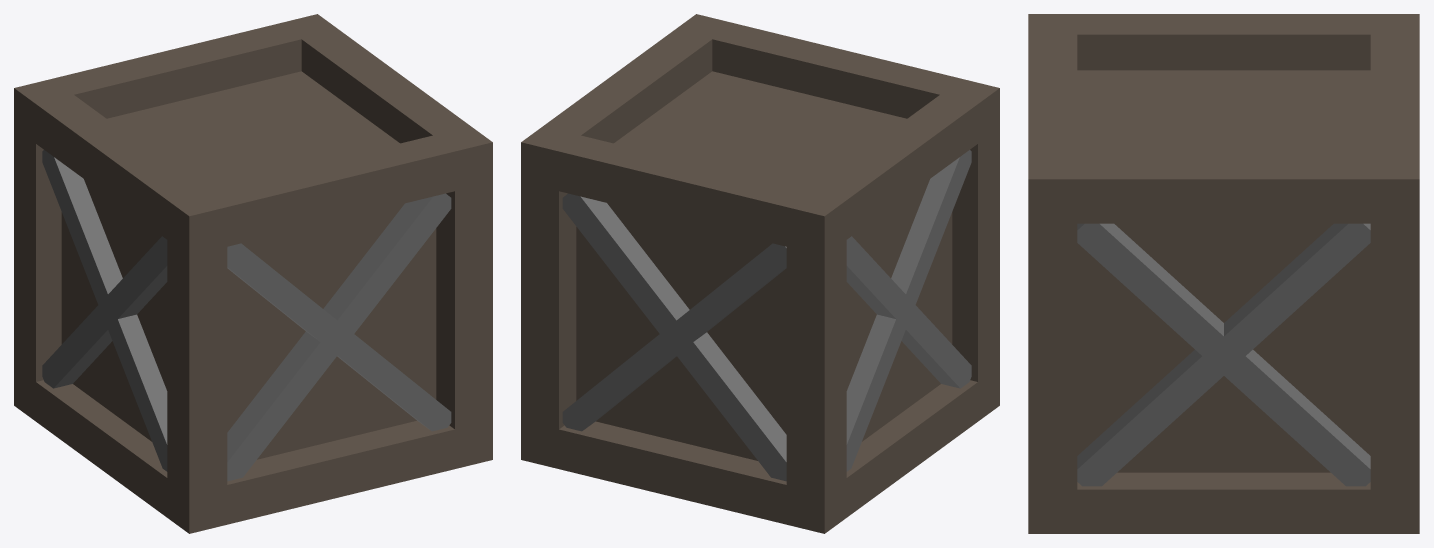
Rendered from Crate 1.fbx.
3 views of the same model, side by side, from view 1: azimuth 30°, elevation 25°; view 2: azimuth 150°, elevation 25°; view 3: azimuth 270°, elevation 25° (orthographic). The views are drawn at different scales.
Visible parts, largest first — view 1: Cube, Cube.003, Cube.001, Cube.004, Cube.002; view 2: Cube, Cube.003, Cube.002, Cube.004, Cube.001; view 3: Cube, Cube.002, Cube.001.
Part boxes in pixels (x1,y1,x2,y2): Cube: (14,14,492,533); Cube.003: (227,193,451,481); Cube.001: (42,150,167,471); Cube.004: (227,243,451,431); Cube.002: (42,236,167,388); Cube: (521,14,999,533); Cube.003: (562,193,786,481); Cube.002: (846,150,971,471); Cube.004: (562,243,786,431); Cube.001: (846,236,971,388); Cube: (1028,14,1419,533); Cube.002: (1077,223,1370,486); Cube.001: (1077,223,1370,486).
Bounding box in the file's own units: 285 × 285 × 285.
